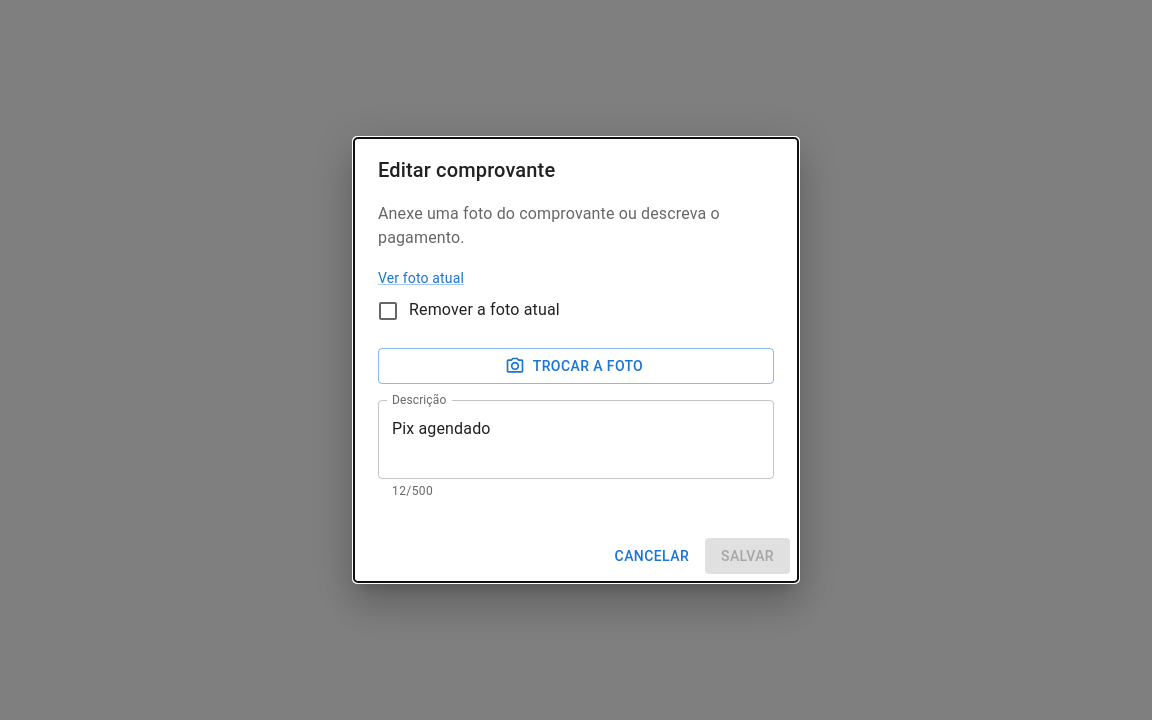
Test case: PaymentProofDialog in edit mode › removing the photo keeps Salvar enabled while a description remains
This screenshot has width=1152, height=720.
Click the checkbox labelled "Remover a foto atual" at [468, 310], box [376, 298, 560, 322]
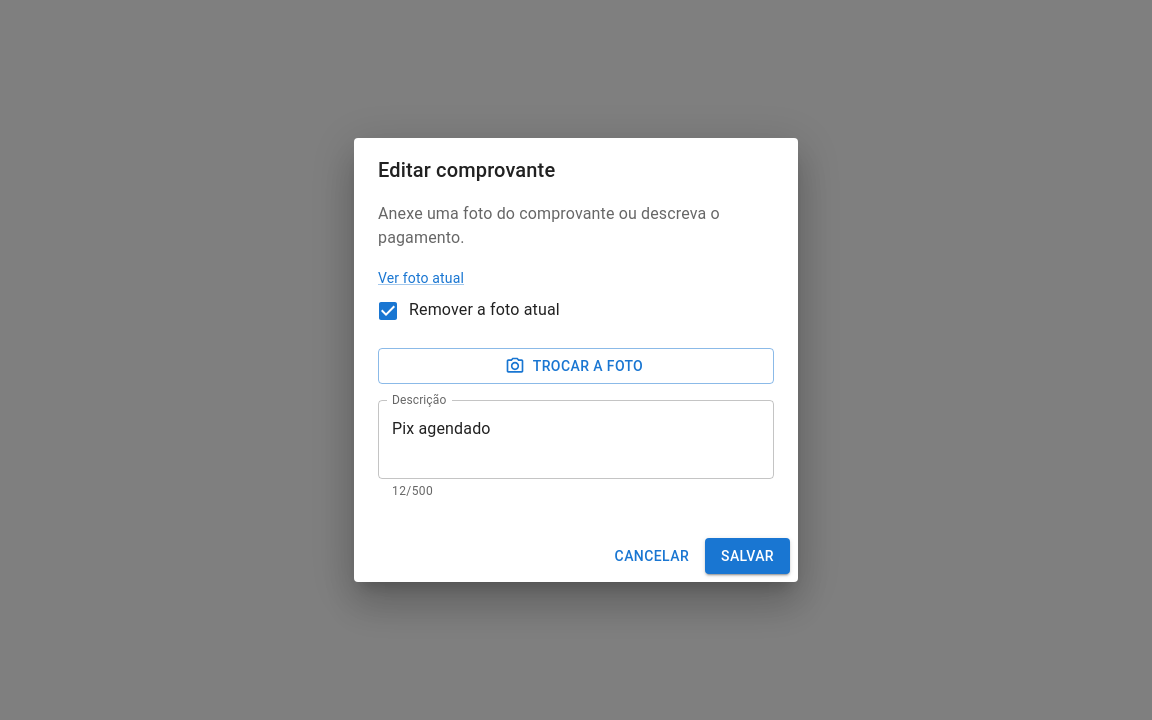
Result: the button "Salvar" is enabled at [705, 538, 790, 574]
